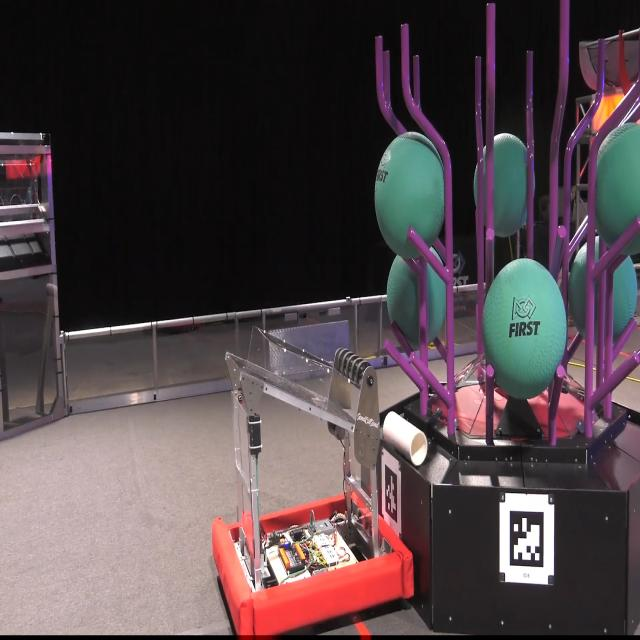Coral: (382, 409, 428, 467)
